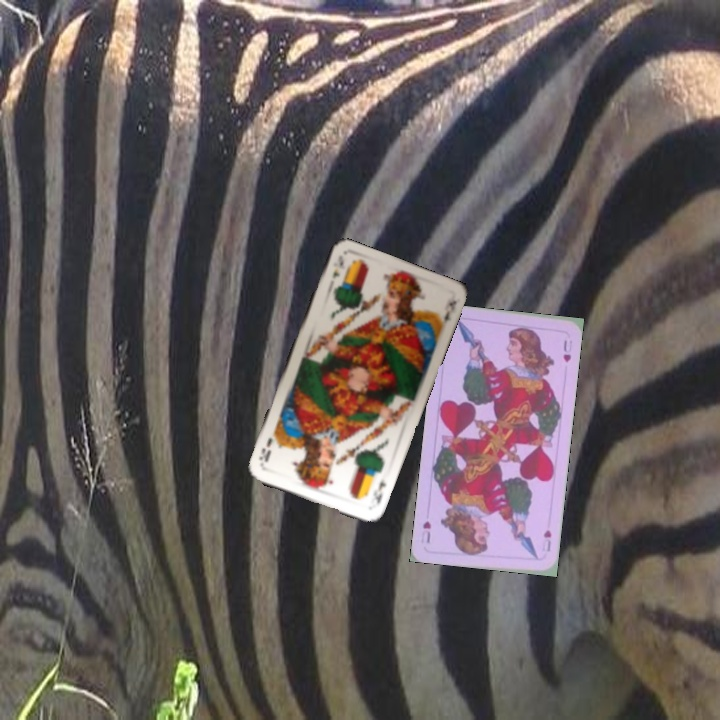EK: (369, 477, 389, 507), (328, 251, 346, 282)
HU: (538, 526, 554, 554)
